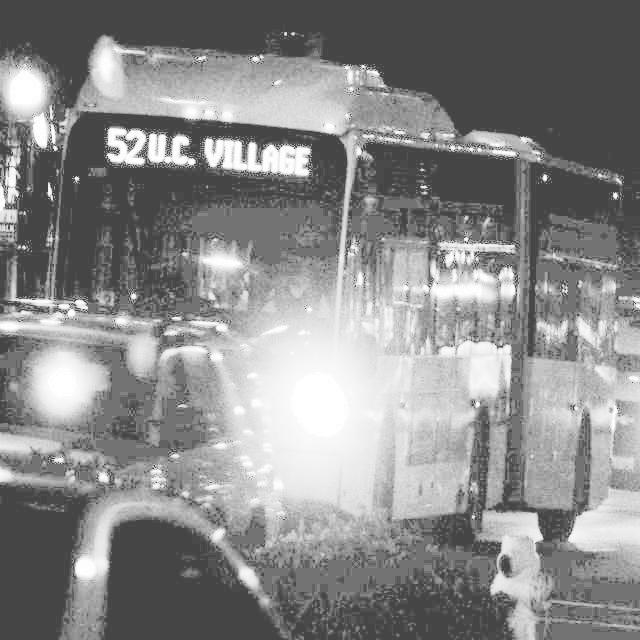Bus: (46, 9, 640, 532)
